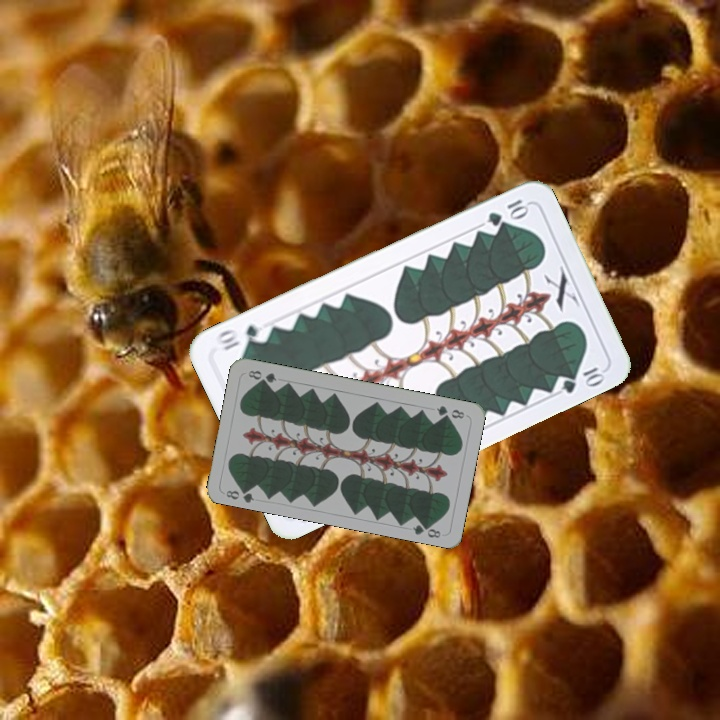G10: (483, 195, 531, 229)
G8: (222, 483, 257, 505), (432, 401, 467, 421)
